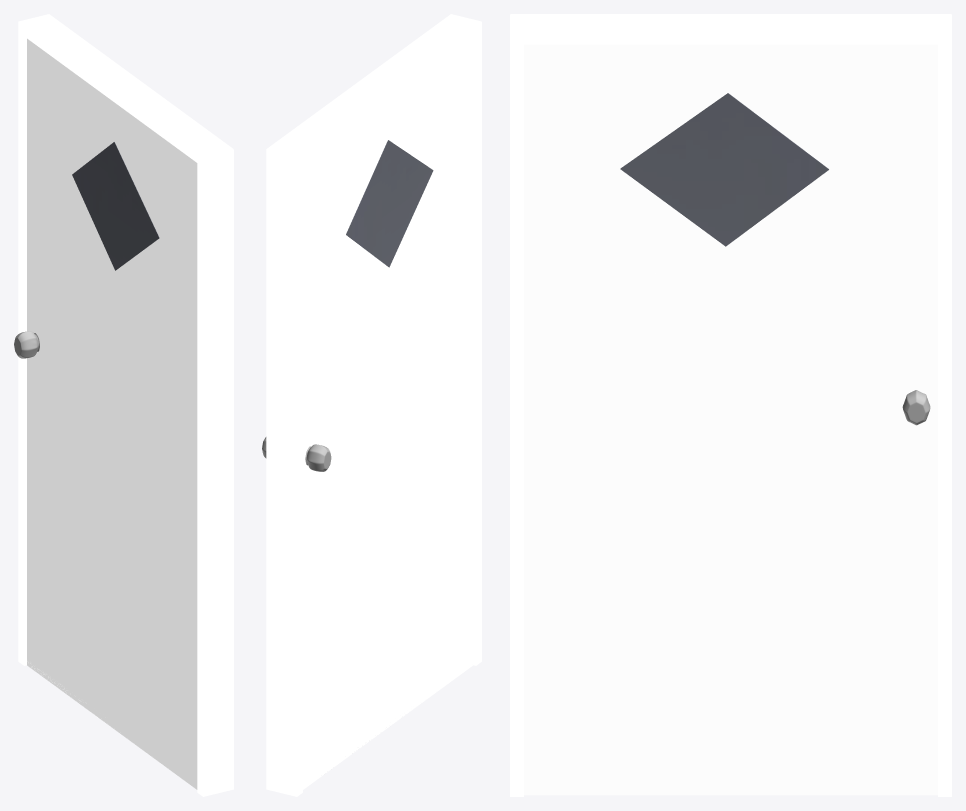
File: diamond_window_rights_walkin.3fb52010.gltf
3 views of the same model, side by side, from view 1: azimuth 30°, elevation 25°; view 2: azimuth 150°, elevation 25°; view 3: azimuth 270°, elevation 25° (orthographic). The views are drawn at different scales.
Parts seen in each view (by area): view 1: Plane.001, trims, glass, knob; view 2: Plane.001, trims, glass, knob; view 3: Plane.001, trims, glass.
Boxes of the visible parts, bbox=[...] form: Plane.001: bbox=[27, 38, 197, 789]; trims: bbox=[18, 14, 233, 796]; glass: bbox=[72, 142, 159, 270]; knob: bbox=[14, 331, 39, 358]; Plane.001: bbox=[303, 38, 473, 789]; trims: bbox=[266, 14, 481, 796]; glass: bbox=[346, 140, 433, 267]; knob: bbox=[262, 437, 331, 471]; Plane.001: bbox=[524, 44, 937, 795]; trims: bbox=[510, 14, 951, 796]; glass: bbox=[620, 93, 828, 246].
Bounding box in the file's own units: 0.6063 × 6.01 × 3.14.
4 materials, 2 textured.
